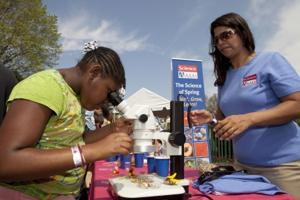person: (1, 47, 132, 199)
